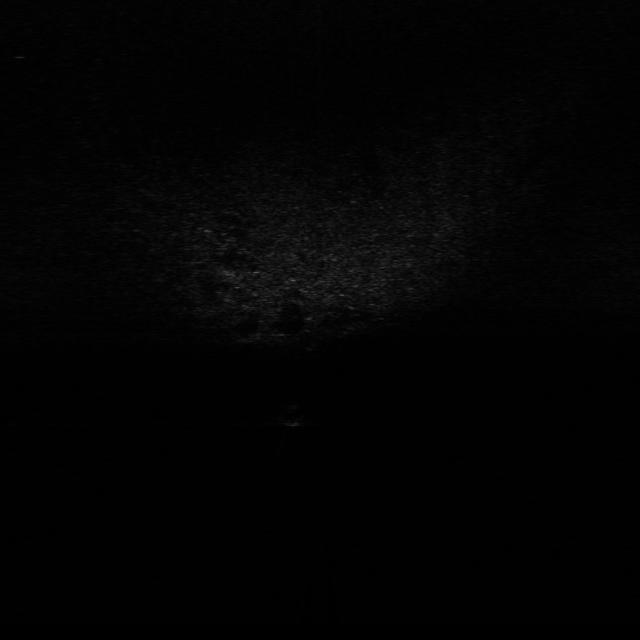ball: (270, 402, 312, 428)
